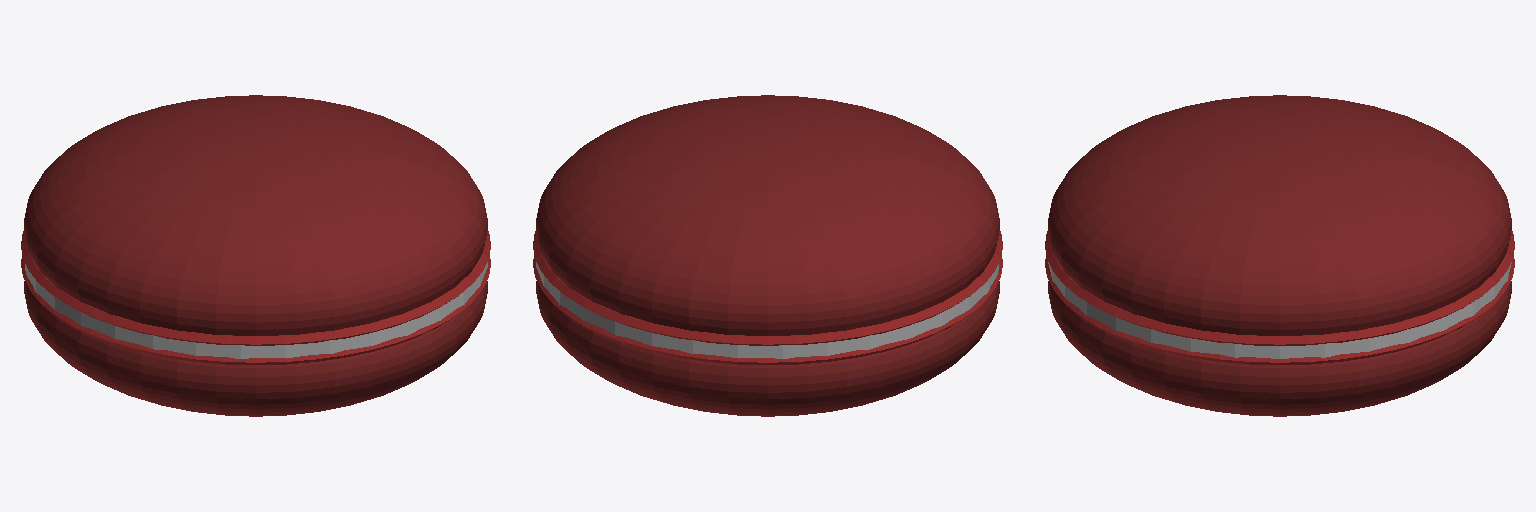
File: makalong3.obj
The picture shows the model from 3 angles: view 1: azimuth 30°, elevation 25°; view 2: azimuth 150°, elevation 25°; view 3: azimuth 270°, elevation 25°; orthographic projection.
Visible parts, largest first — view 1: Sphere_Sphere.001, Sphere.001_Sphere.002, Cylinder, Torus.001, Torus; view 2: Sphere_Sphere.001, Sphere.001_Sphere.002, Cylinder, Torus.001, Torus; view 3: Sphere_Sphere.001, Sphere.001_Sphere.002, Cylinder, Torus.001, Torus.
Part boxes in pixels (left/top/right/bottom): Sphere_Sphere.001: left=24, top=95, right=487, bottom=335; Sphere.001_Sphere.002: left=24, top=281, right=487, bottom=416; Cylinder: left=25, top=262, right=487, bottom=358; Torus.001: left=21, top=231, right=490, bottom=345; Torus: left=21, top=256, right=490, bottom=364; Sphere_Sphere.001: left=536, top=95, right=999, bottom=335; Sphere.001_Sphere.002: left=536, top=281, right=999, bottom=416; Cylinder: left=536, top=262, right=998, bottom=358; Torus.001: left=533, top=231, right=1002, bottom=345; Torus: left=533, top=256, right=1002, bottom=364; Sphere_Sphere.001: left=1048, top=95, right=1511, bottom=335; Sphere.001_Sphere.002: left=1048, top=281, right=1511, bottom=416; Cylinder: left=1048, top=262, right=1511, bottom=358; Torus.001: left=1045, top=231, right=1514, bottom=345; Torus: left=1045, top=256, right=1514, bottom=364.
Size of the model in its own units: 2.02 by 1.1 by 2.02.